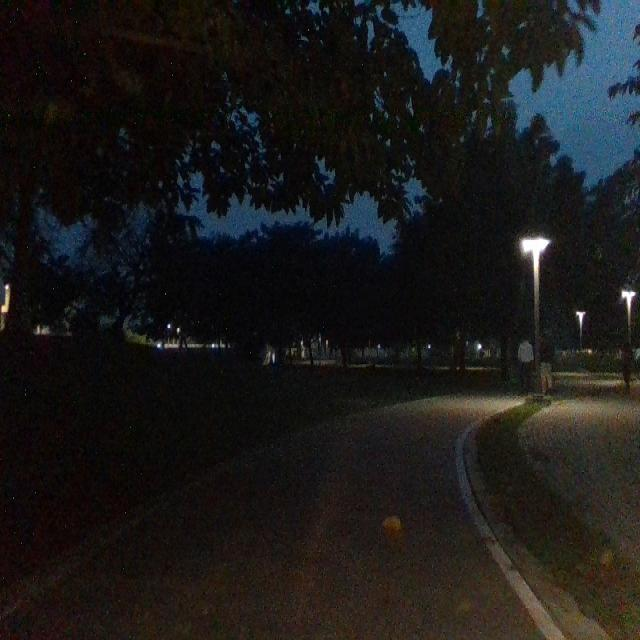lane: (5, 400, 552, 640)
